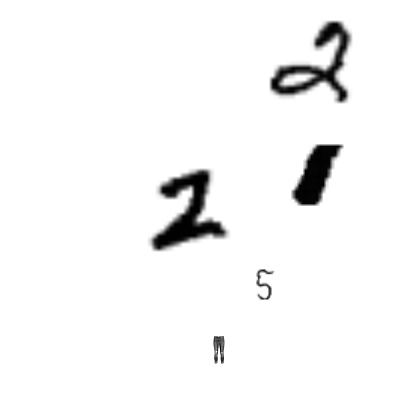1: (271, 130, 355, 214)
2: (129, 154, 241, 266), (259, 6, 371, 118)
5: (243, 262, 285, 304)
Trouser: (205, 336, 233, 364)
